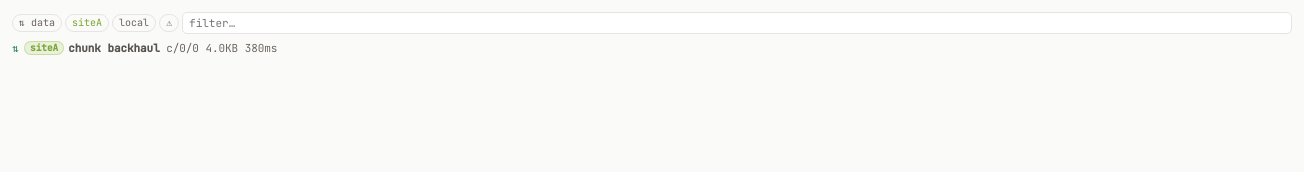
Console rendering › expands a row to its structured detail on click
The image size is (1304, 172).
Click the text "chunk backhaul": coordinates (114, 48) x1=68 y1=41 x2=160 y2=55
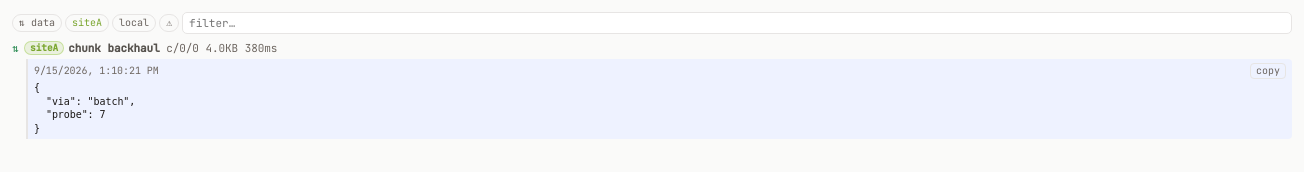
Expected: the text "{ \"via\": \"batch\", \"probe\": 7 }" is shown, x1=34 y1=82 x2=135 y2=134
Expected: the button "copy" is shown, x1=1250 y1=63 x2=1286 y2=79
